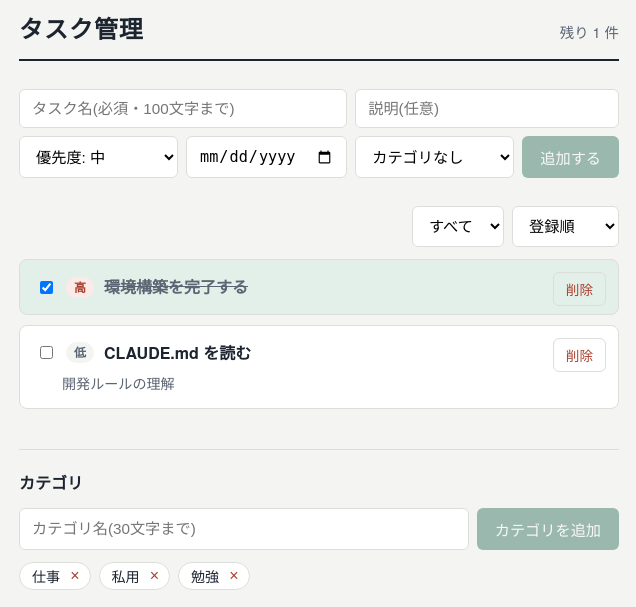
Test: カテゴリ › カテゴリを追加できる
Type "趣味" into the field labelled "カテゴリ名".
click(244, 529); type("趣味")  # box [19,508,469,550]
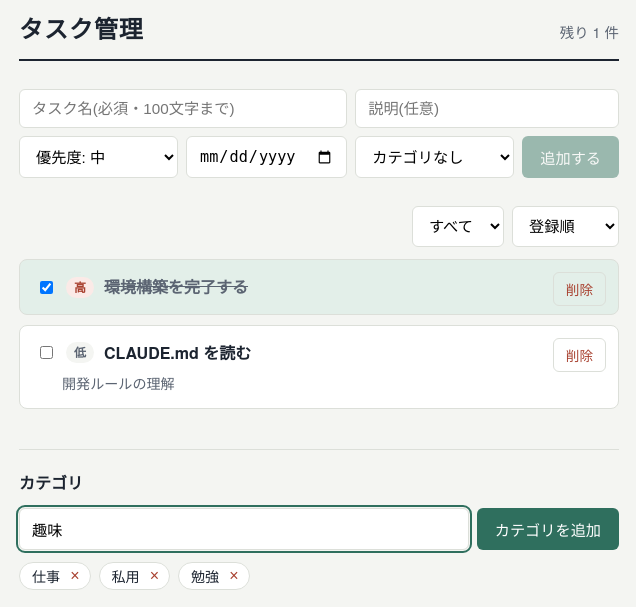
Click the button "カテゴリを追加".
click(548, 529)  # box [477,508,619,550]
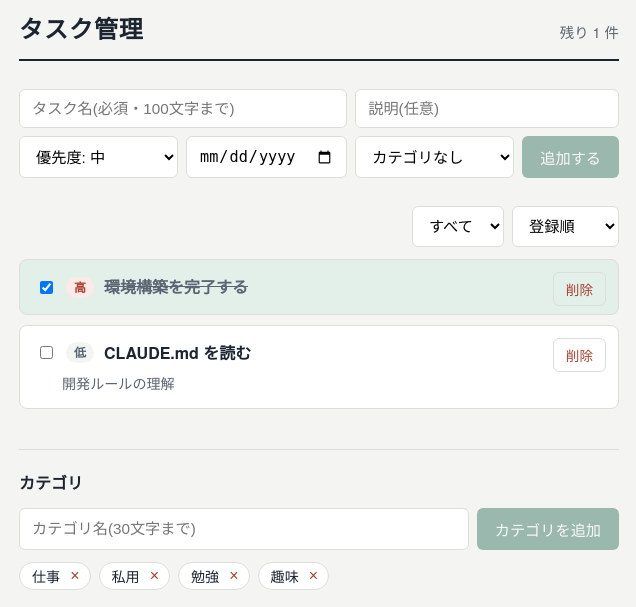
Expected: the button named "カテゴリ「趣味」を削除" is shown, [303,565,324,587]
Expected: the field labelled "カテゴリ名" is empty, [19,508,469,550]
